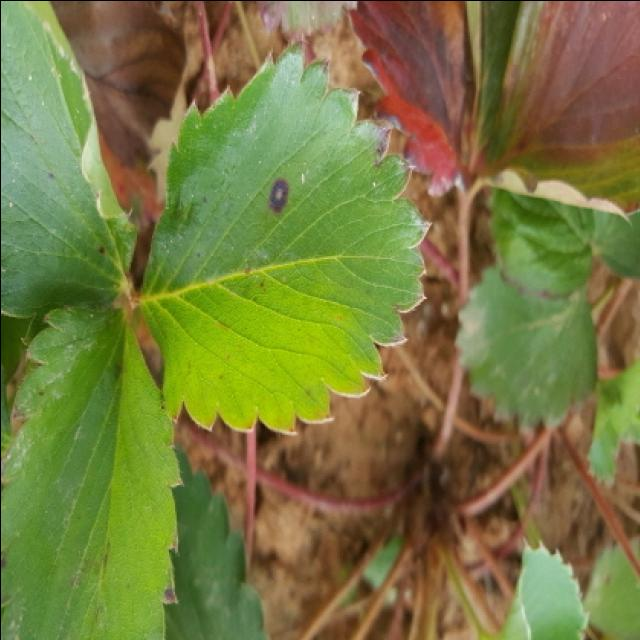Leaf Spot: (137, 40, 433, 433), (2, 304, 183, 640), (2, 2, 140, 317)
